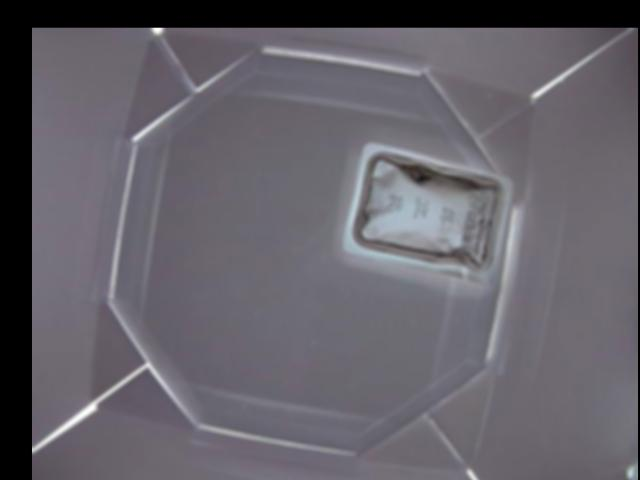Medicine: (343, 141, 510, 291)
